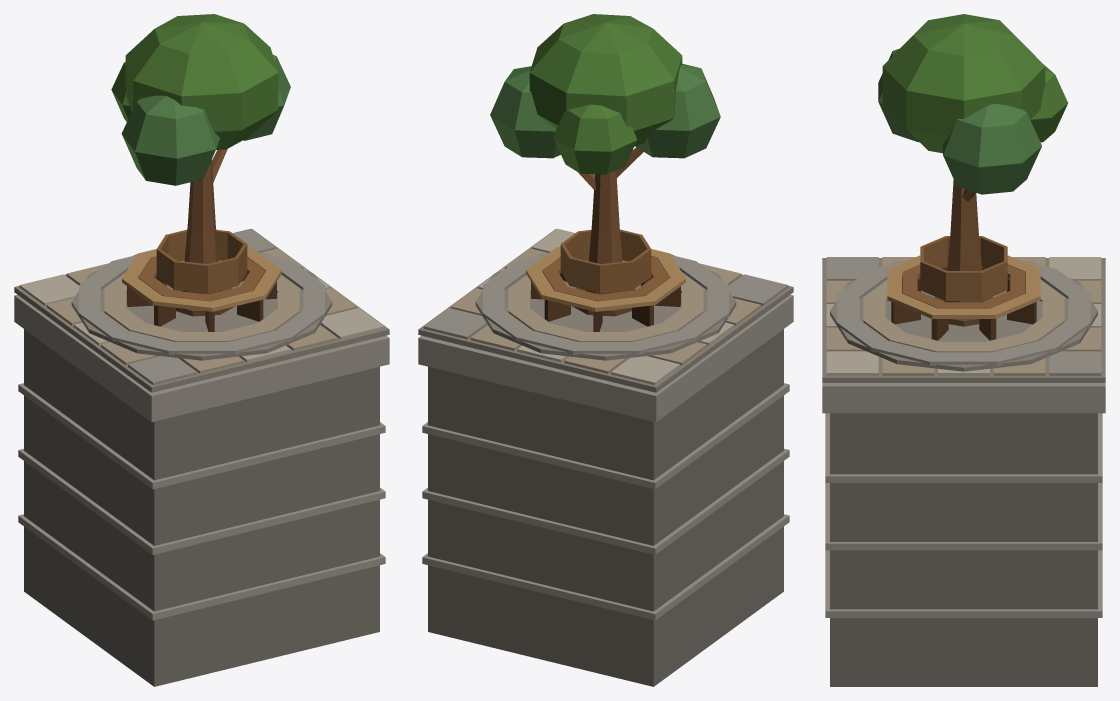
File: decor_tree_bench.glb
The picture shows the model from 3 angles, left to right: view 1: azimuth 30°, elevation 25°; view 2: azimuth 150°, elevation 25°; view 3: azimuth 270°, elevation 25°; orthographic projection. The views are drawn at different scales.
Parts seen in each view (by area): view 1: decor_tree_bench; view 2: decor_tree_bench; view 3: decor_tree_bench.
Part boxes in pixels (x1=…): decor_tree_bench: x1=14, y1=14, x2=389, y2=686; decor_tree_bench: x1=418, y1=14, x2=793, y2=686; decor_tree_bench: x1=822, y1=14, x2=1105, y2=686.
Size of the model in its own units: 3.8 by 8.99 by 3.8.
